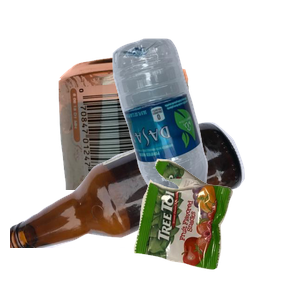glass: (10, 120, 247, 300)
metal: (56, 52, 242, 232)
plastic: (110, 36, 300, 216)
trash: (131, 156, 300, 300)
